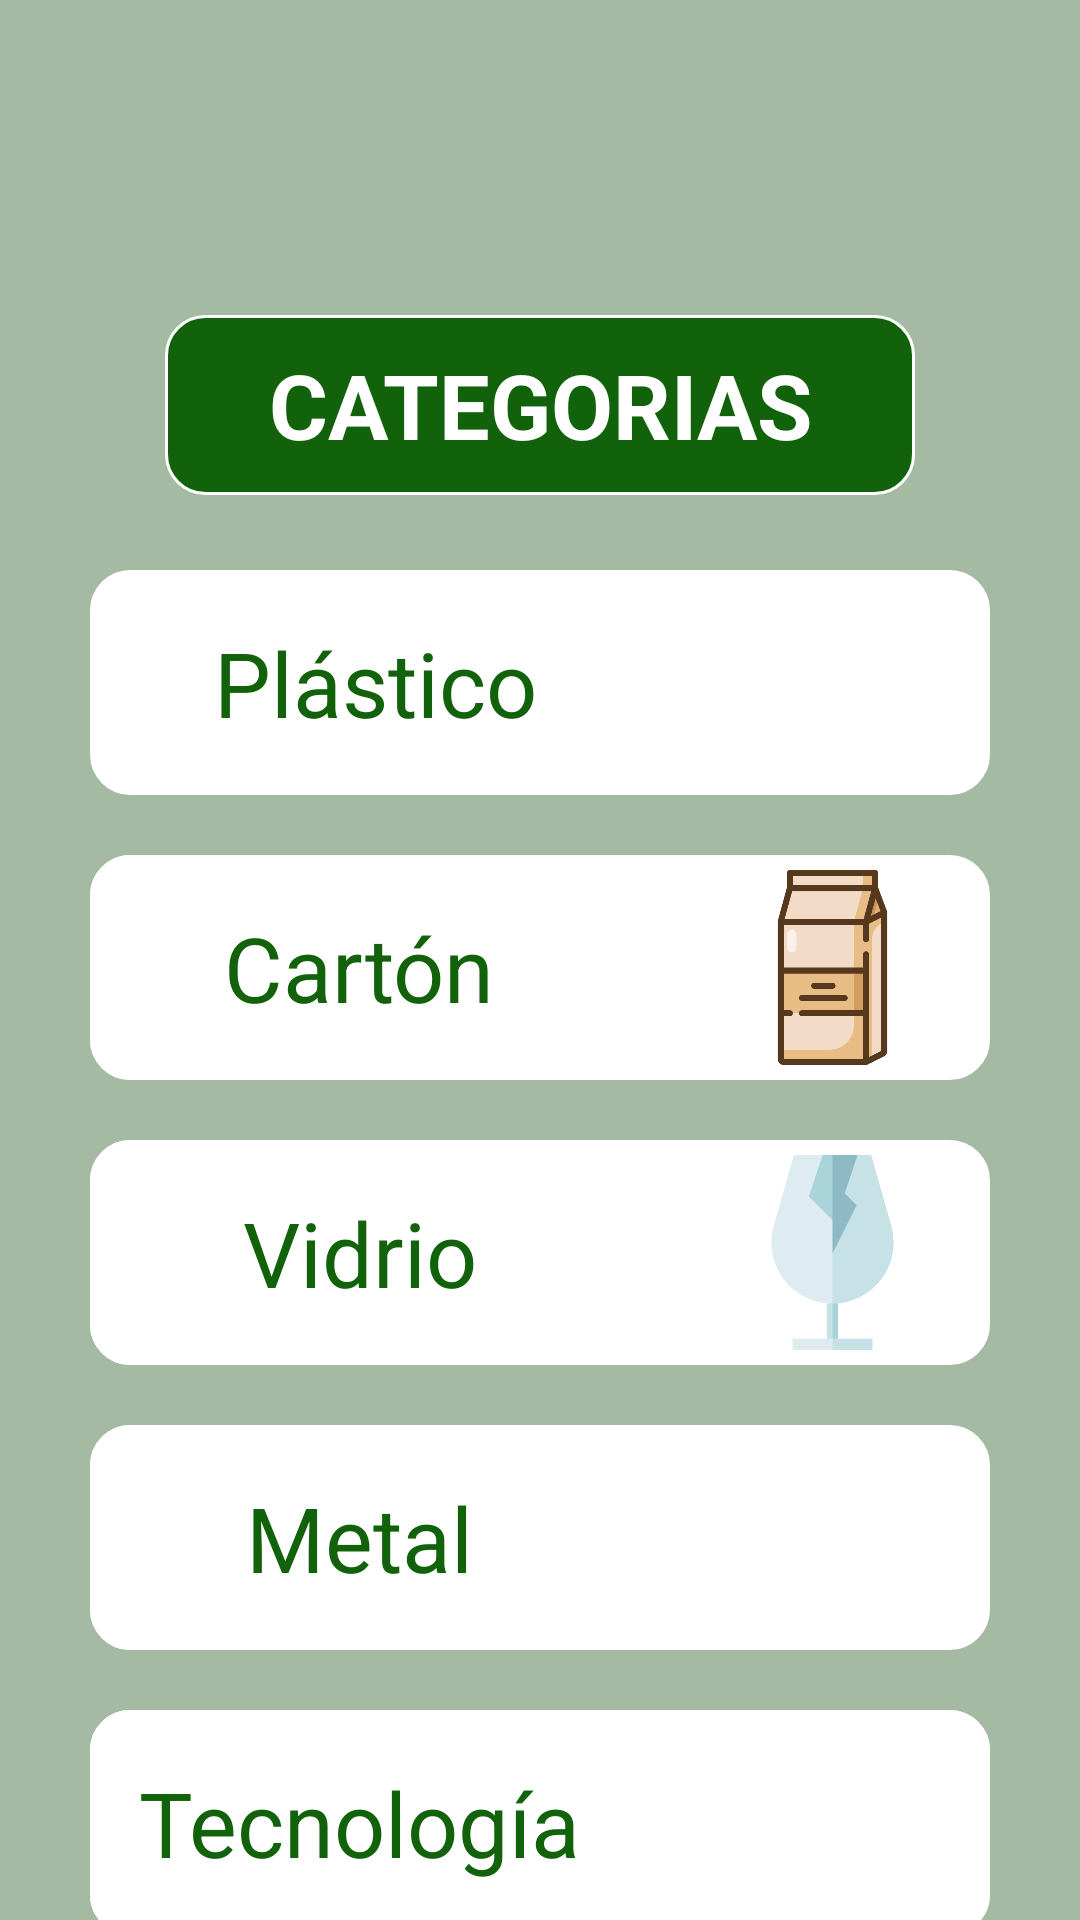

Where to tap for icons on this 1080px x 1920px app screen, as (x=x, y=y):
glass: (x=833, y=1252)
milk: (x=832, y=967)
